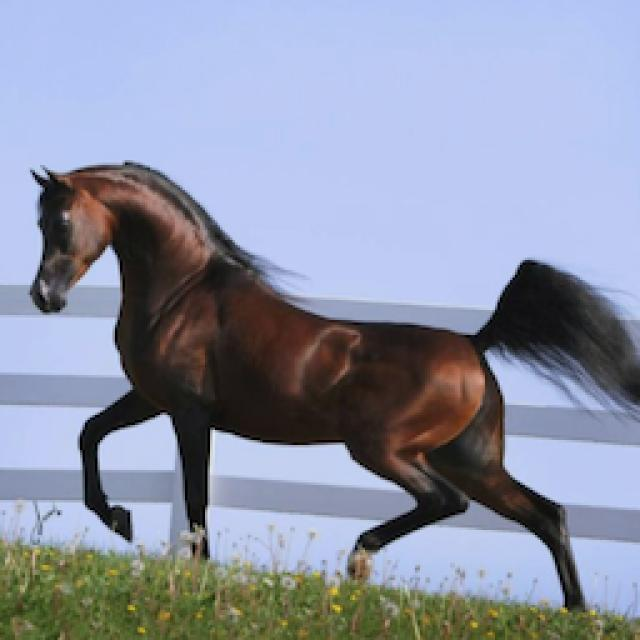Horse: (22, 152, 638, 616)
